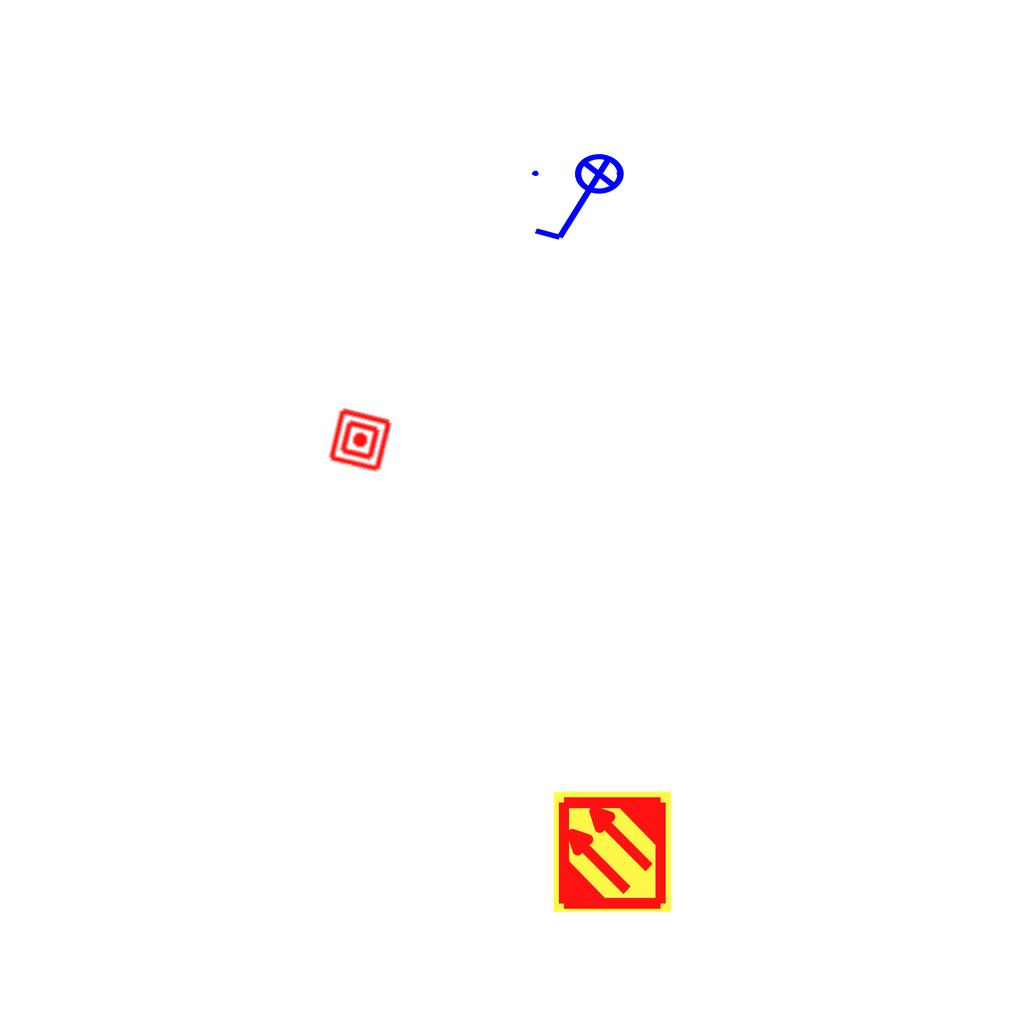ASR_Ansaugrauchmelder: (550, 789, 675, 914)
Ausschalter_beleuchtet: (526, 152, 638, 248)
NAM-Nichtautomatischer_Melder: (326, 406, 394, 474)
